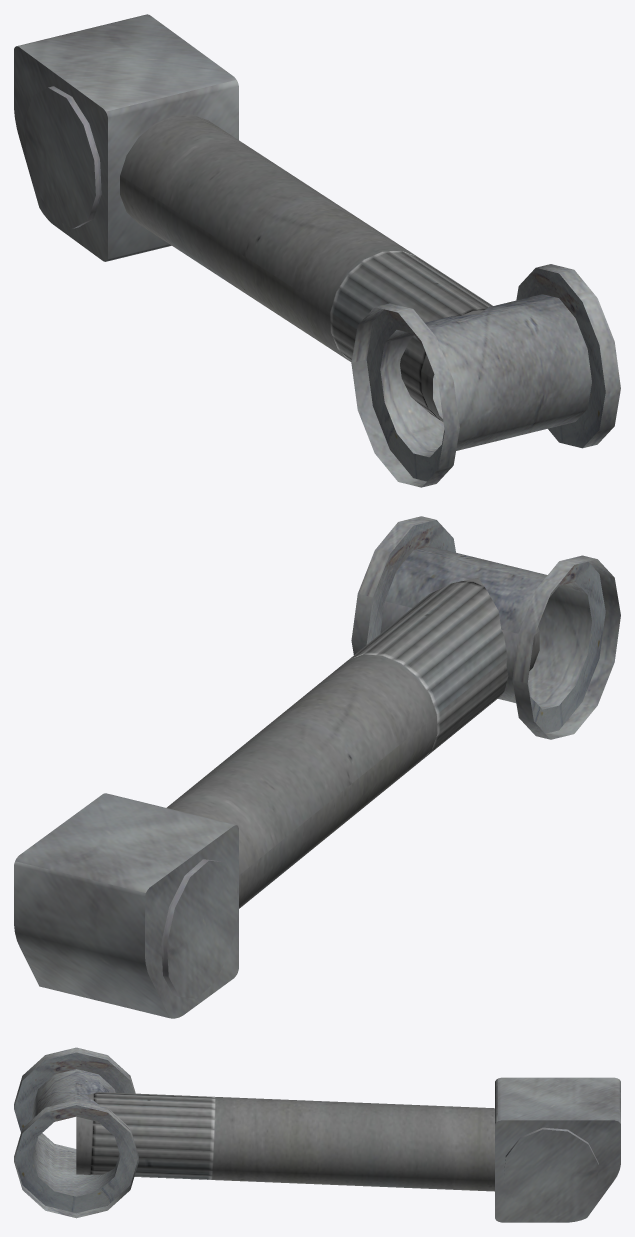
Rendered from arm1.obj.
3 renders of one model, top to bottom at view 1: azimuth 30°, elevation 25°; view 2: azimuth 150°, elevation 25°; view 3: azimuth 270°, elevation 25°, orthographic. The views are drawn at different scales.
Parts seen in each view (by area): view 1: arm1, armhinge; view 2: arm1, armhinge; view 3: arm1, armhinge.
Part boxes in pixels (left/top/right/bottom): arm1: left=14, top=14, right=492, bottom=421; armhinge: left=351, top=264, right=620, bottom=487; arm1: left=14, top=578, right=539, bottom=1018; armhinge: left=351, top=516, right=620, bottom=739; arm1: left=76, top=1077, right=620, bottom=1222; armhinge: left=14, top=1047, right=138, bottom=1218.
Bounding box in the file's own units: 0.169 × 0.1709 × 0.7531.
2 materials, 2 textured.
